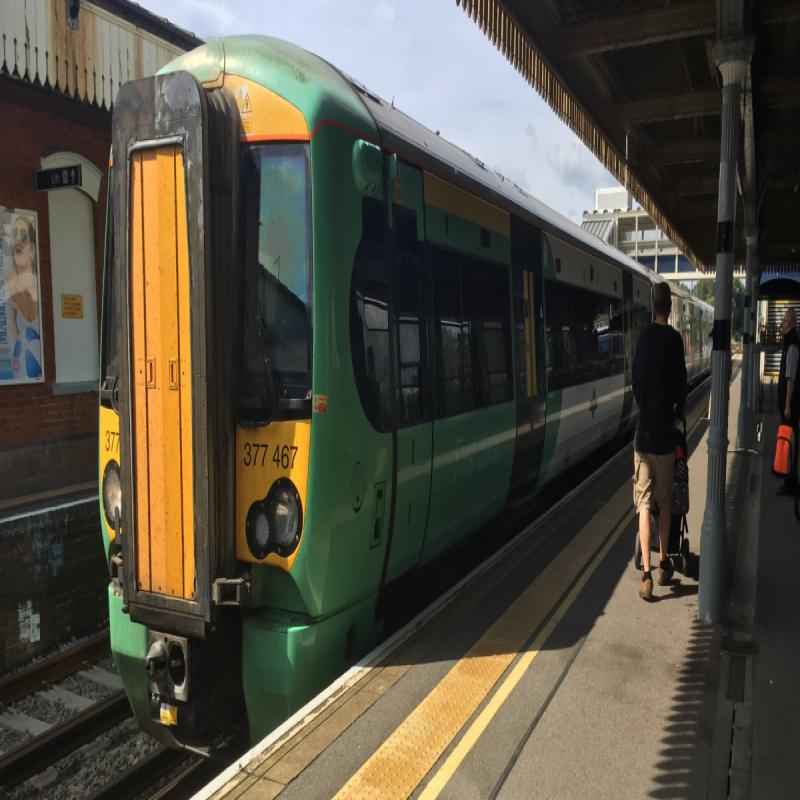train: (90, 24, 578, 652)
